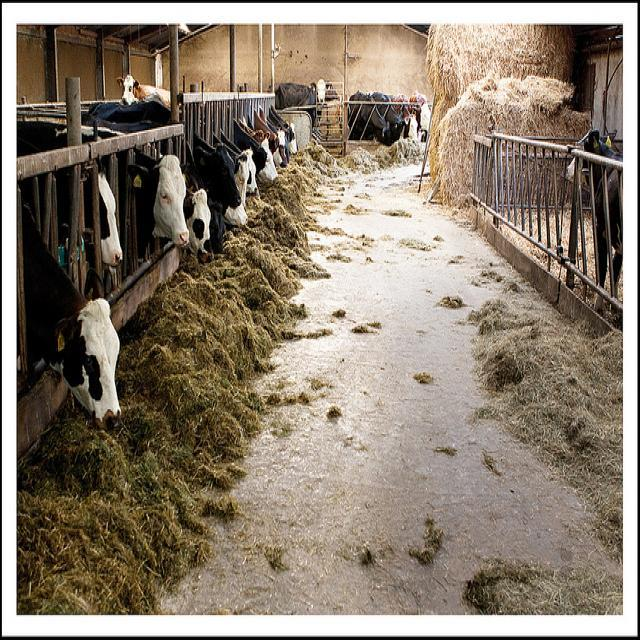cow: (78, 77, 434, 269), (15, 118, 188, 260), (15, 222, 119, 428), (566, 127, 622, 307), (219, 126, 260, 200), (196, 142, 241, 208), (232, 117, 277, 181), (96, 156, 121, 266), (213, 136, 249, 204), (118, 69, 174, 108), (253, 107, 280, 164), (369, 89, 400, 133), (389, 90, 417, 136), (280, 119, 297, 154)
